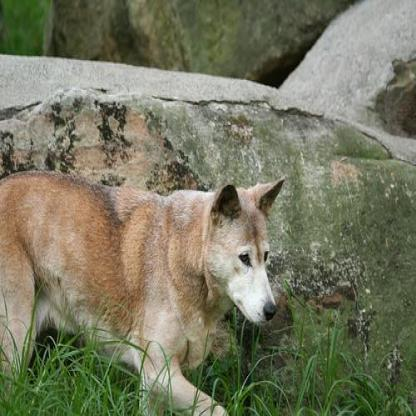dingo: (0, 168, 285, 414)
